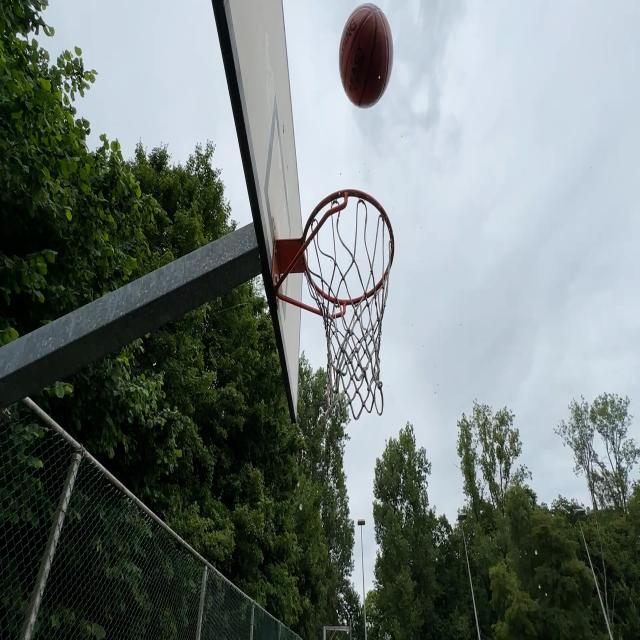Basketball: (338, 2, 395, 107)
